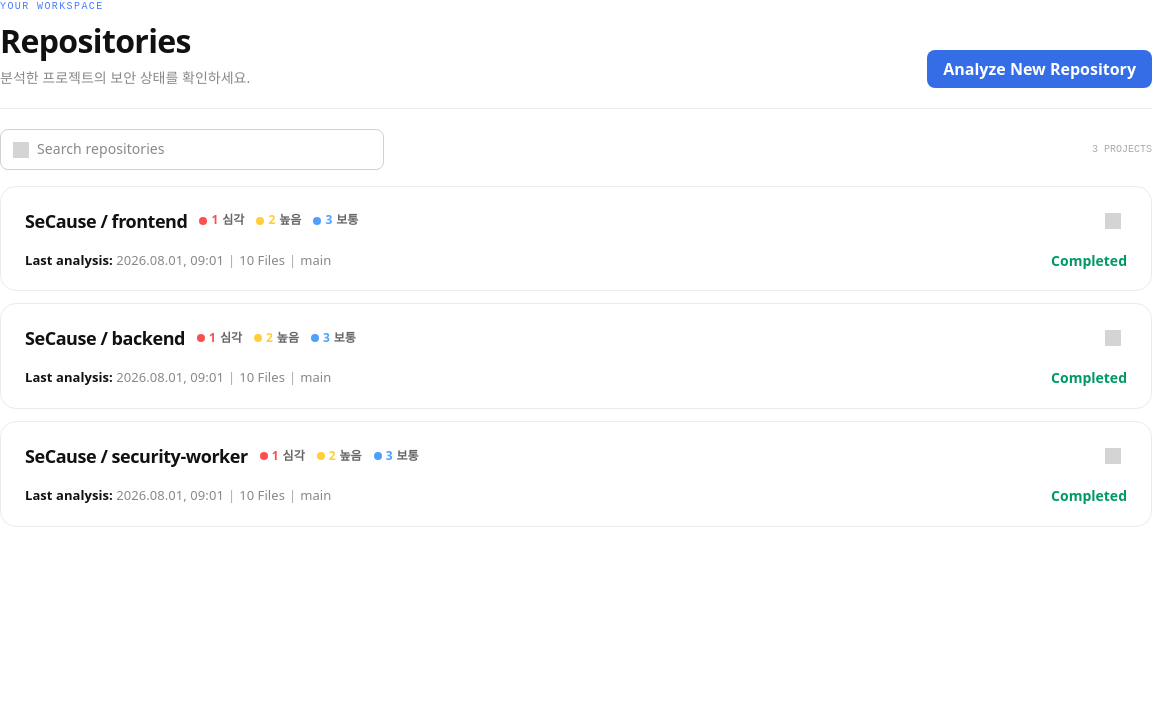
RepositoriesTab › Given 저장소 카드에서 When 삭제를 확인하면 Then 해당 저장소 ID로 삭제를 요청한다
Expected: the text "SeCause / frontend" is shown, [0,186,1151,291]
Step 1. Click the button named "레포지토리 삭제" in the row of "frontend" → (1113, 221), box [1099,207,1127,235]
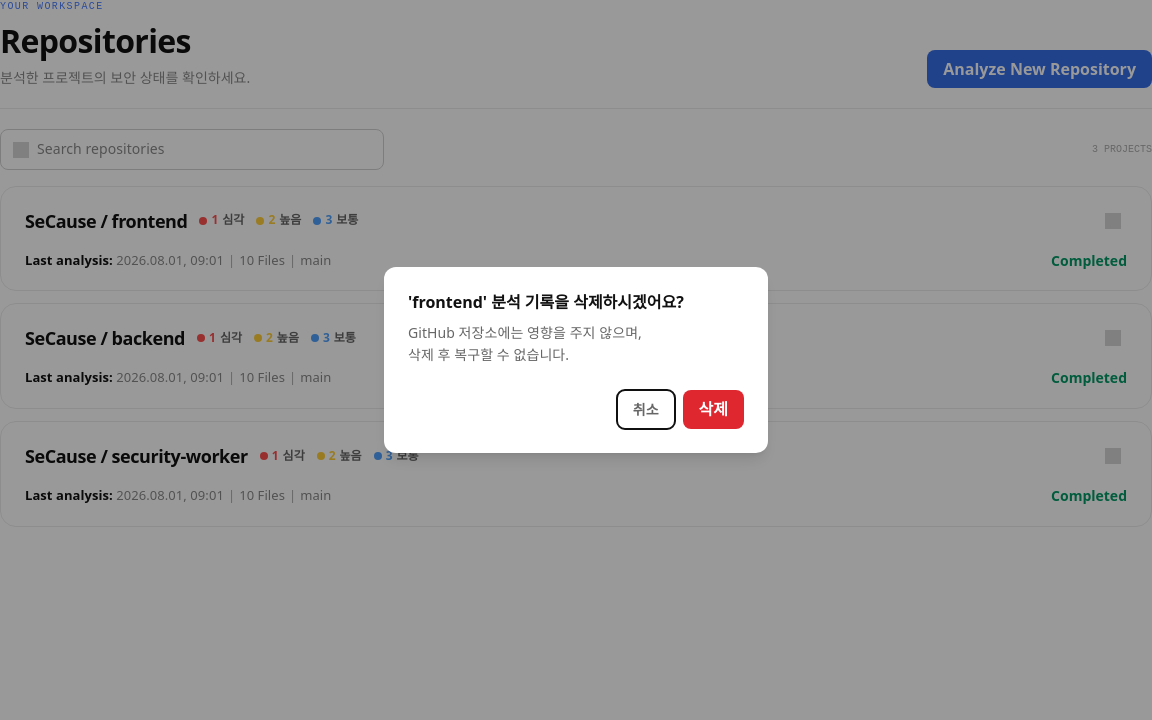
Step 2. Click the button "삭제" → (713, 410), box [682,390,744,429]
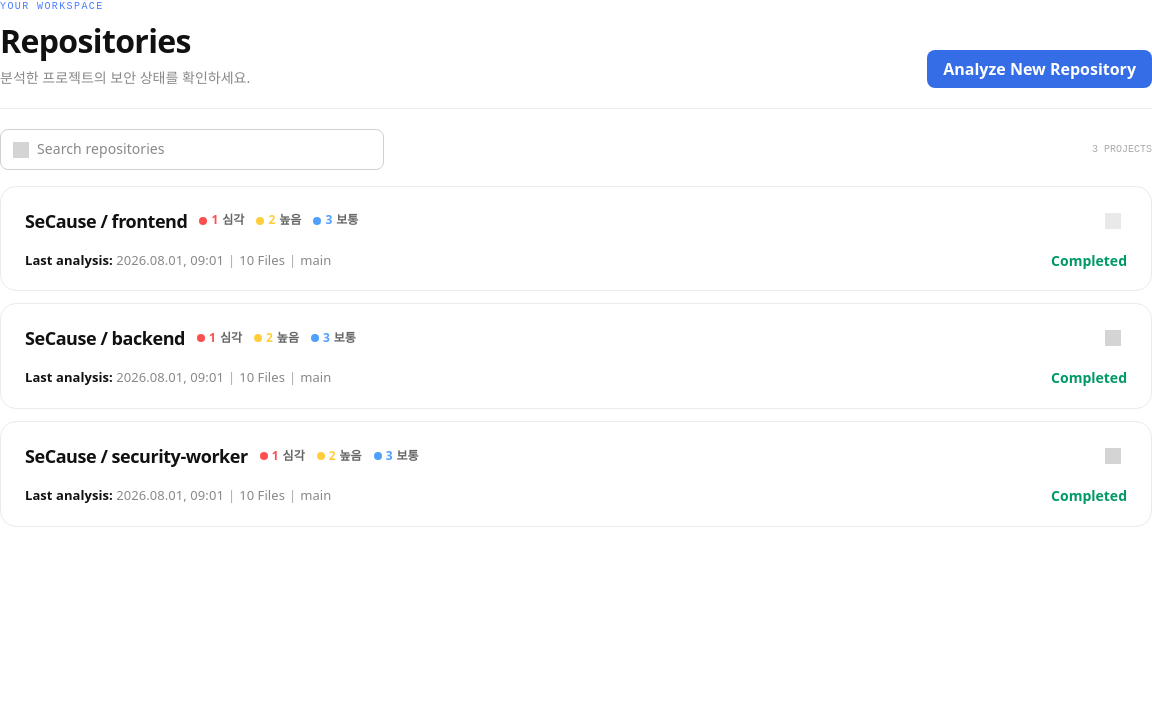
Now the dialog is gone
